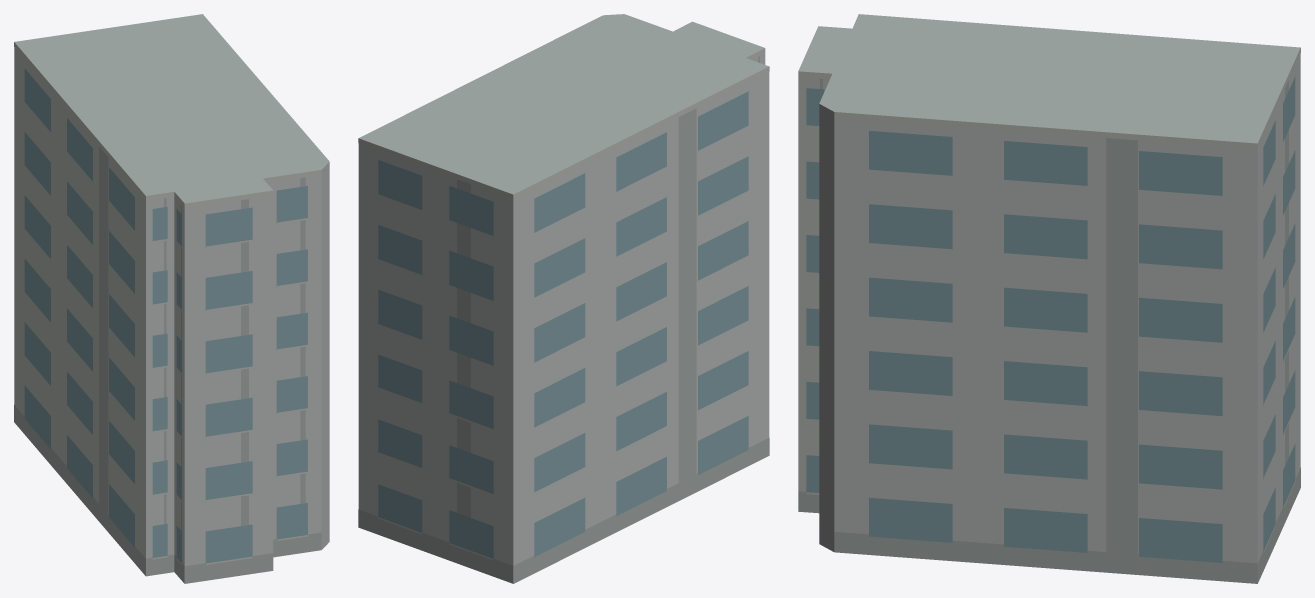
The model's file is survey-upis-32714449.glb.
The picture shows the model from 3 angles, left to right: view 1: azimuth 30°, elevation 25°; view 2: azimuth 150°, elevation 25°; view 3: azimuth 270°, elevation 25°; orthographic projection. The views are drawn at different scales.
Parts seen in each view (by area): view 1: survey-upis-32714449.tmp; view 2: survey-upis-32714449.tmp; view 3: survey-upis-32714449.tmp.
Part boxes in pixels (left/top/right/bottom): survey-upis-32714449.tmp: left=14, top=14, right=329, bottom=583; survey-upis-32714449.tmp: left=358, top=14, right=769, bottom=583; survey-upis-32714449.tmp: left=798, top=14, right=1300, bottom=583.
Bounding box in the file's own units: 11.55 × 18.3 × 18.94.
